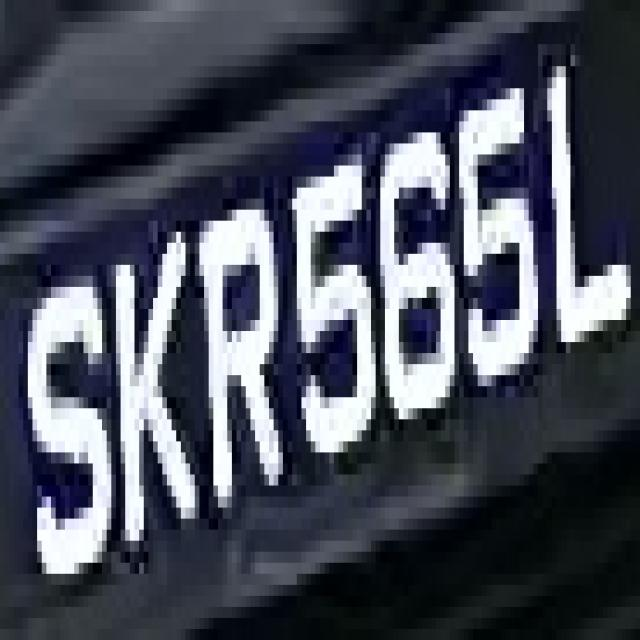5: (288, 143, 394, 508), (445, 66, 538, 408)
6: (362, 121, 473, 464)
K: (111, 198, 195, 584)
L: (534, 22, 636, 342)
R: (185, 166, 288, 552)
S: (14, 265, 125, 596)
